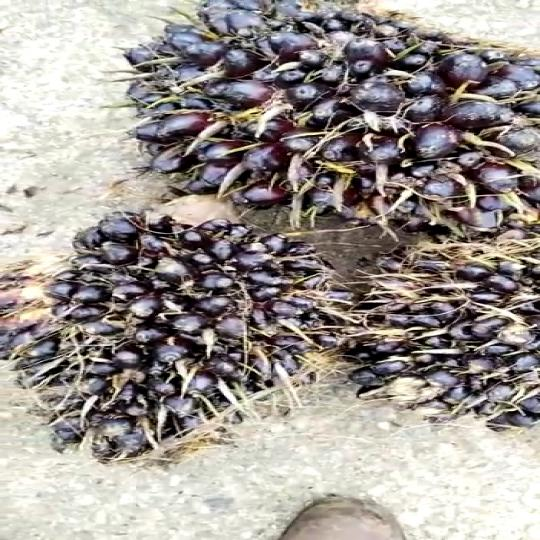mentah: (108, 2, 540, 223), (0, 204, 356, 468), (317, 214, 540, 448)
